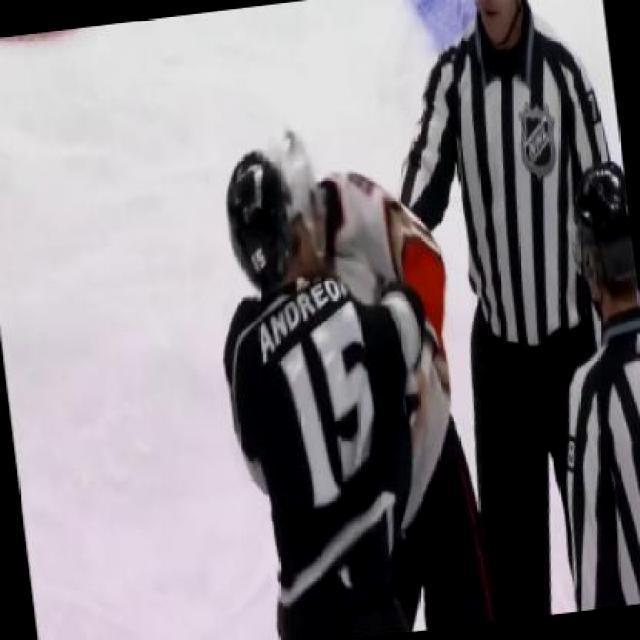fight: (191, 103, 492, 639)
